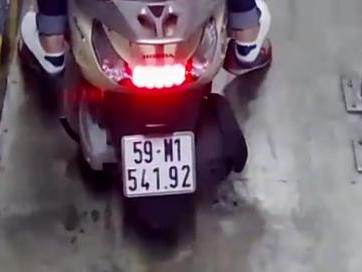num_plate: (121, 133, 196, 195)
